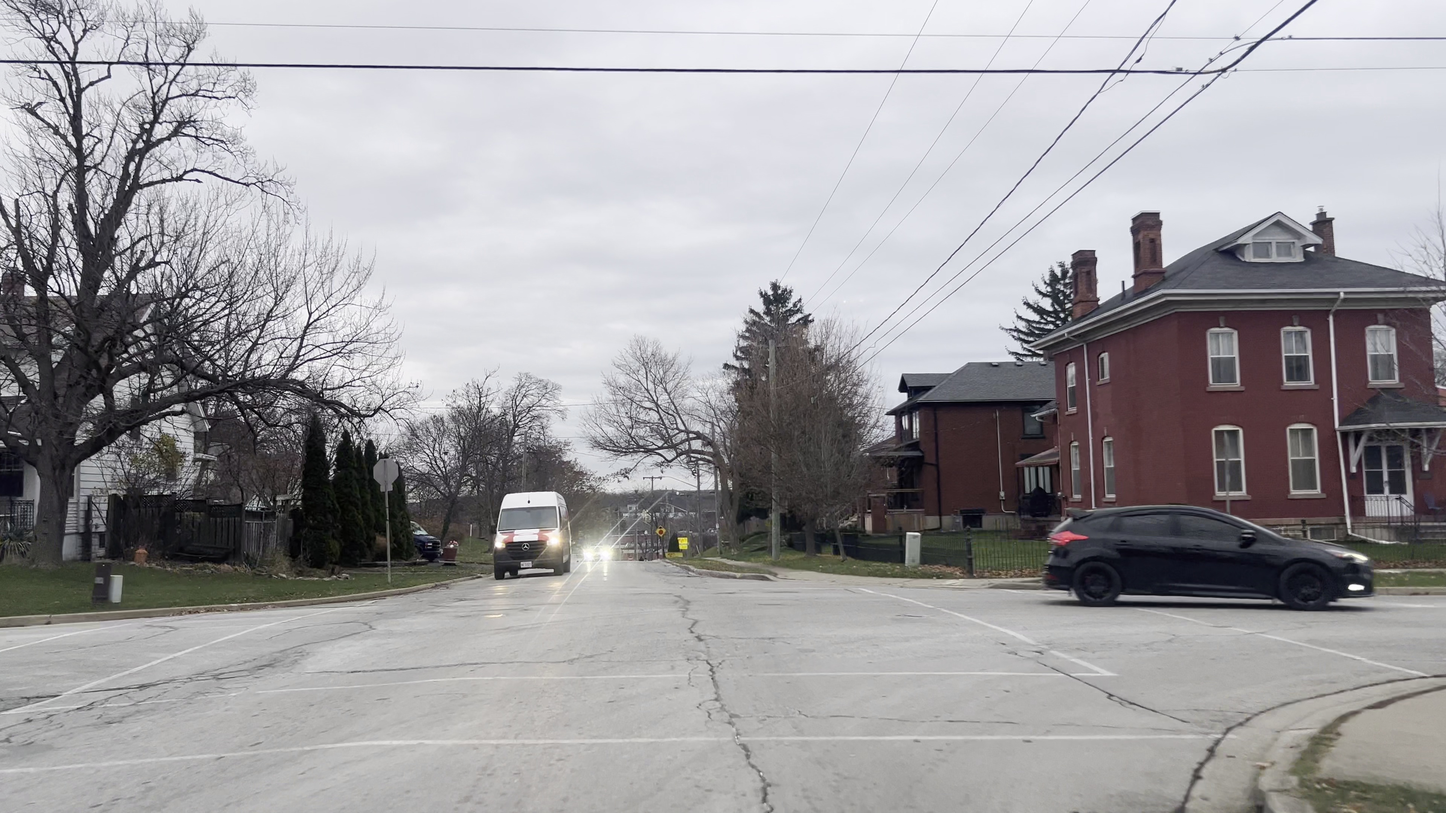cracks: (62, 674, 158, 721), (693, 655, 737, 726), (737, 733, 774, 808), (677, 596, 710, 650)
